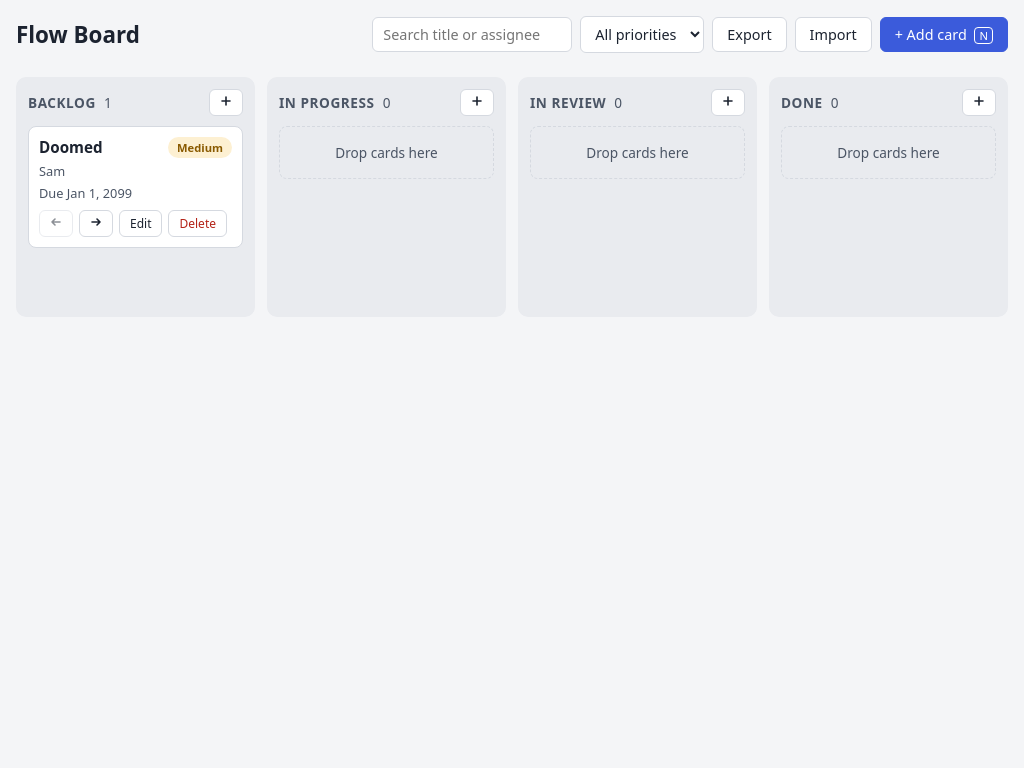
Scenario: deleting cards (audit: undo) › deletes, shows an undo toast, and focuses Undo
This screenshot has width=1024, height=768.
Click the button named "Delete \"Doomed\"". click: (198, 224)
box: [168,210,227,237]
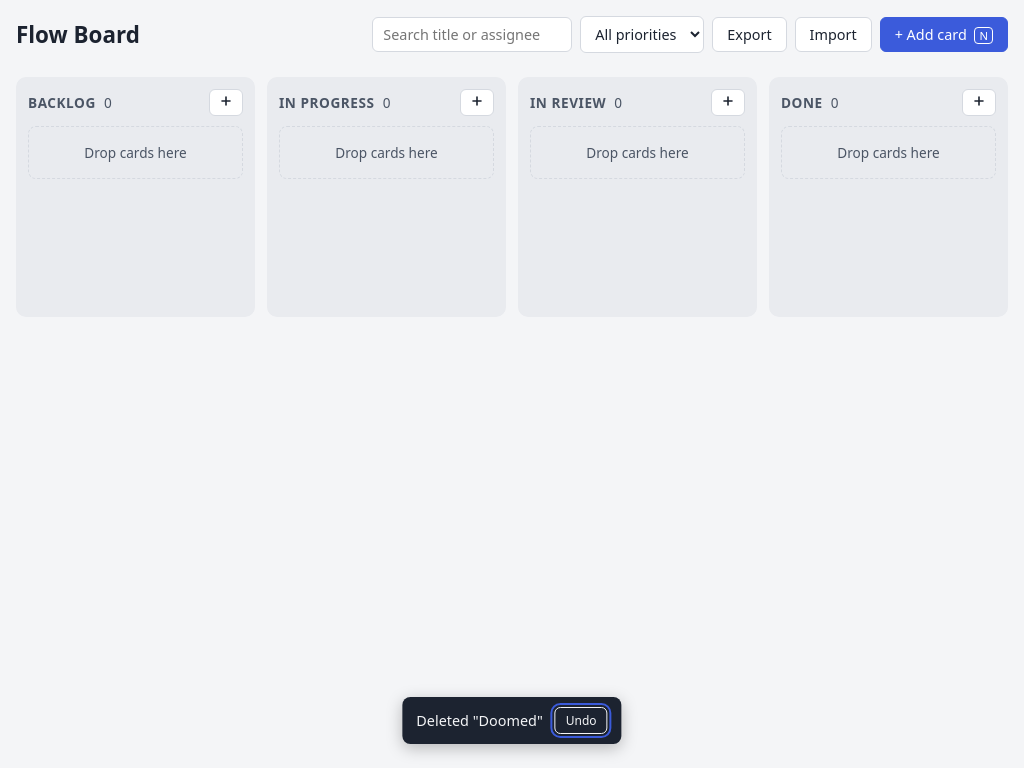
Now the message shows "Deleted \"Doomed\"", box [416,711,543,730]
